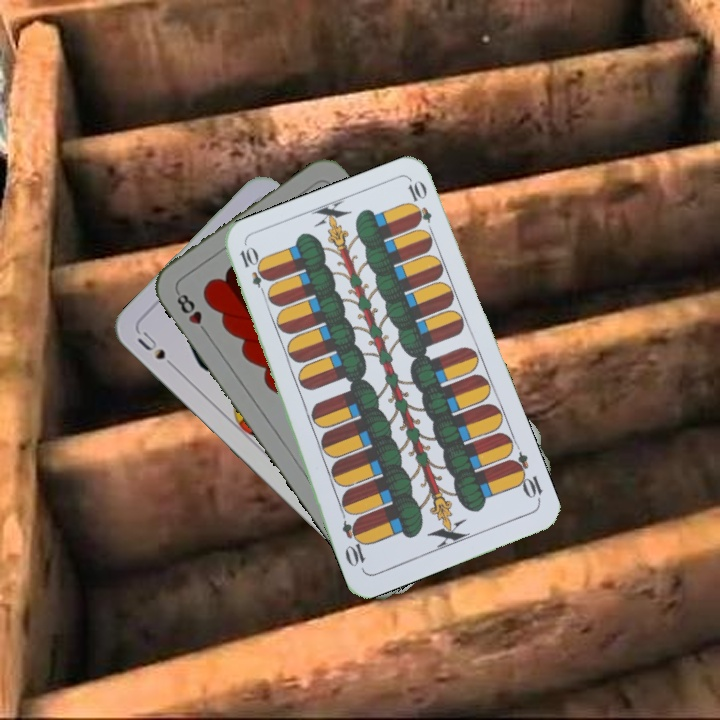E10: (505, 448, 545, 505), (235, 243, 271, 300)
H8: (172, 287, 212, 338)
SU: (133, 326, 181, 374)
